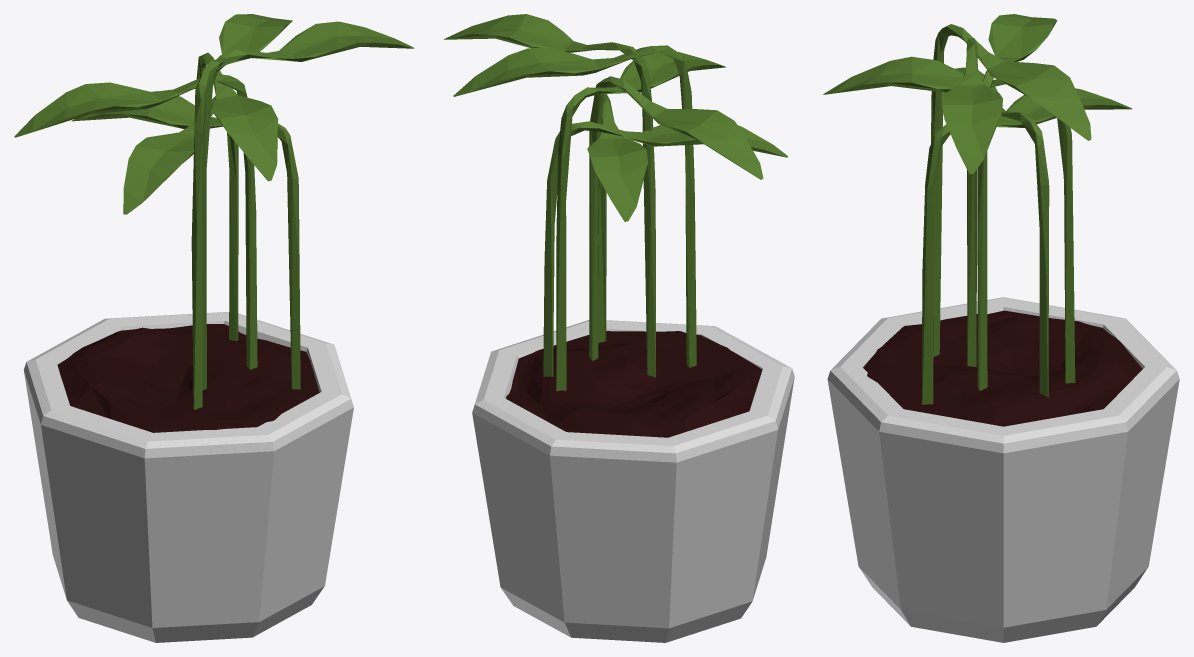
File: arive dantu.glb
The picture shows the model from 3 angles, left to right: view 1: azimuth 30°, elevation 25°; view 2: azimuth 150°, elevation 25°; view 3: azimuth 270°, elevation 25°; orthographic projection. The views are drawn at different scales.
Parts seen in each view (by area): view 1: arive dantu; view 2: arive dantu; view 3: arive dantu.
Part boxes in pixels (left/top/right/bottom): arive dantu: left=14, top=14, right=414, bottom=642; arive dantu: left=444, top=14, right=794, bottom=642; arive dantu: left=823, top=14, right=1179, bottom=642.
Size of the model in its own units: 1.71 by 2.48 by 1.41.
